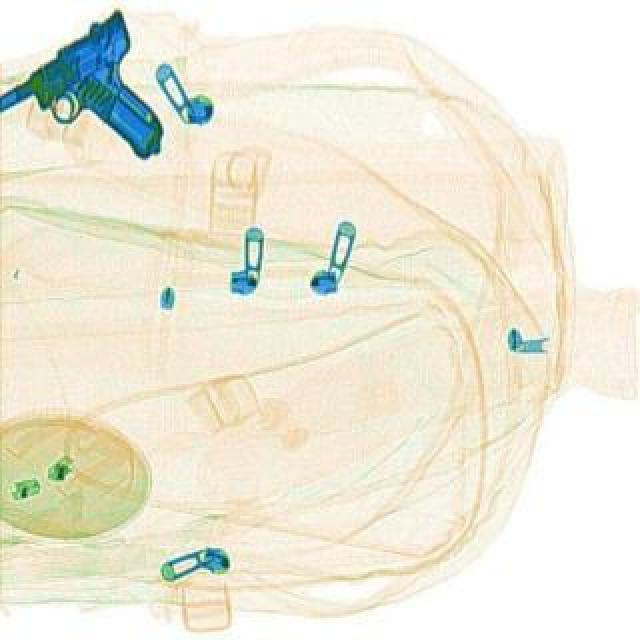gun: (0, 6, 198, 186)
